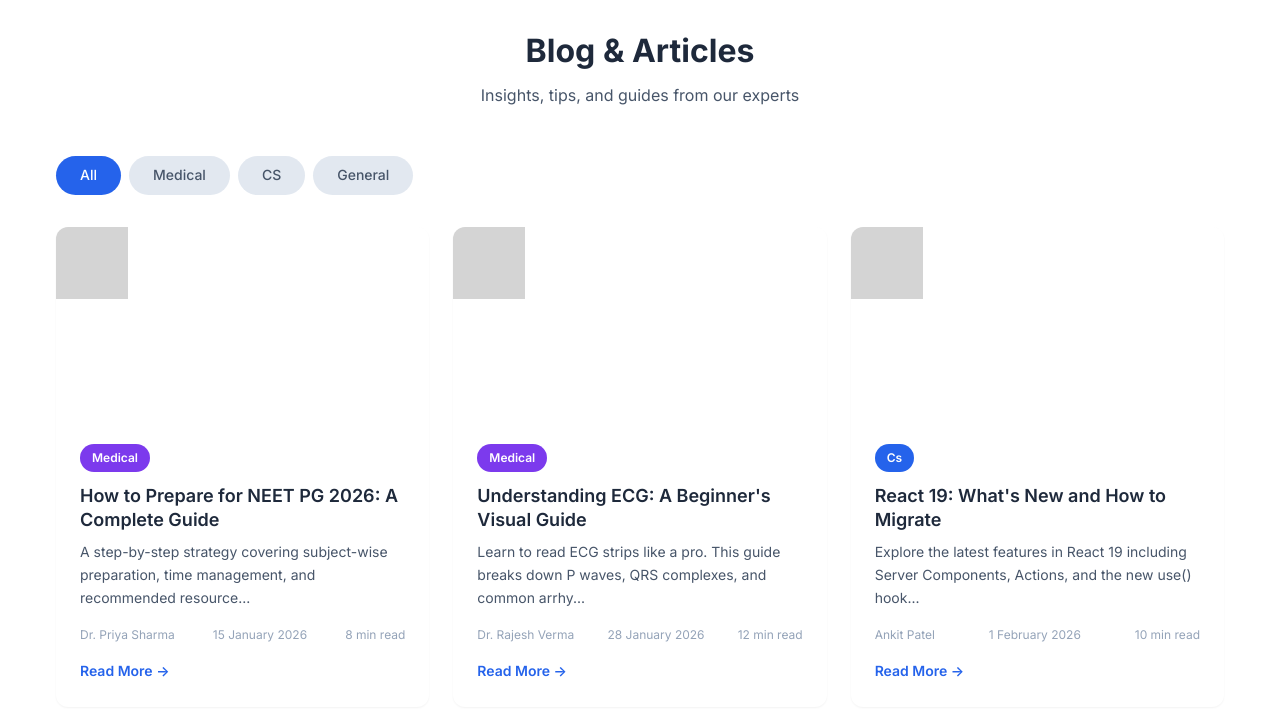
it: Blog › filters to general blogs when General tab is clicked
The width and height of the screenshot is (1280, 720).
Click the button "General": (363, 176) [313,156,413,195]
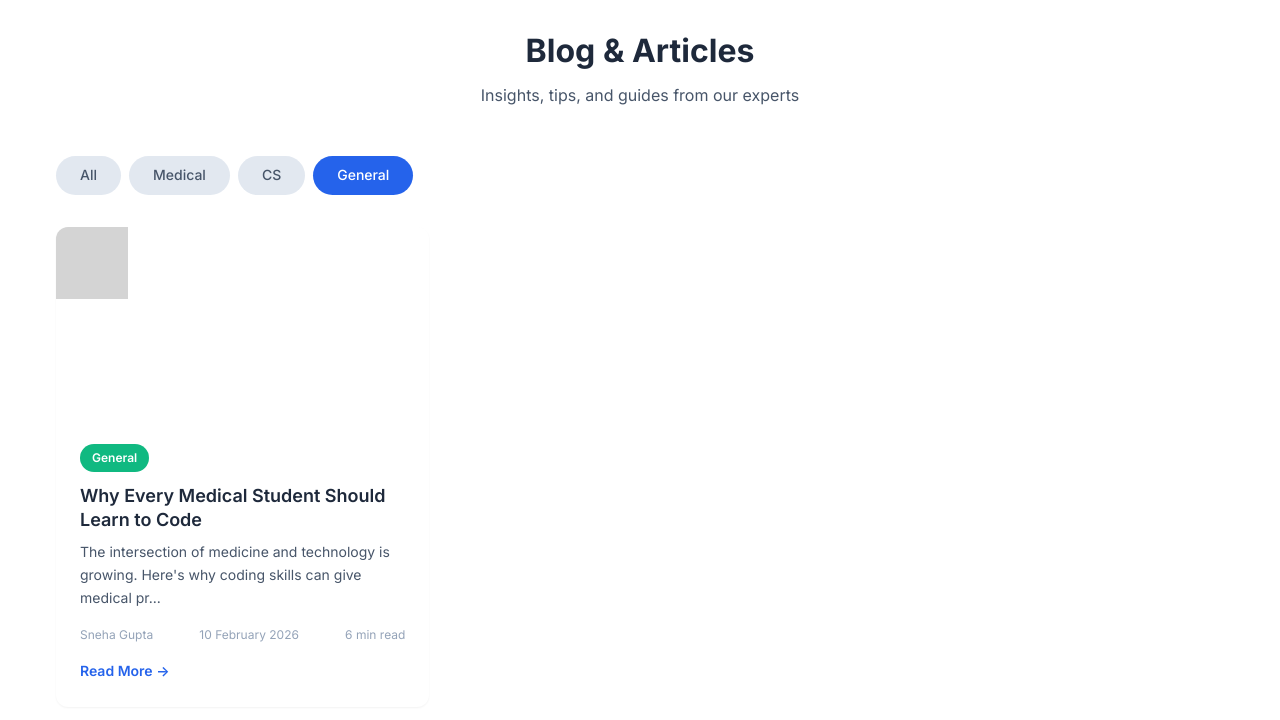
Check: the heading "Why Every Medical Student Should Learn to Code" is shown, box [80,484,405,533]
Check: the heading "How to Prepare for NEET PG 2026: A Complete Guide" is gone
